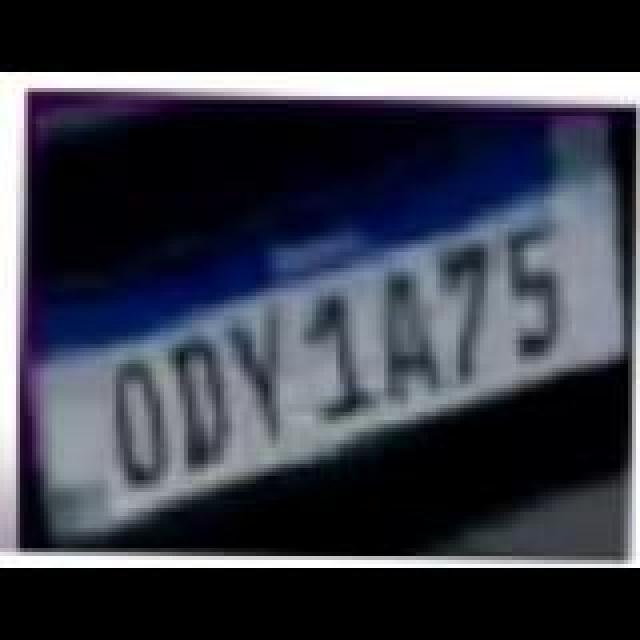1: (298, 292, 382, 428)
5: (504, 222, 568, 362)
7: (440, 240, 504, 384)
A: (372, 266, 444, 406)
D: (168, 340, 240, 476)
O: (104, 360, 176, 496)
Y: (224, 306, 296, 446)
